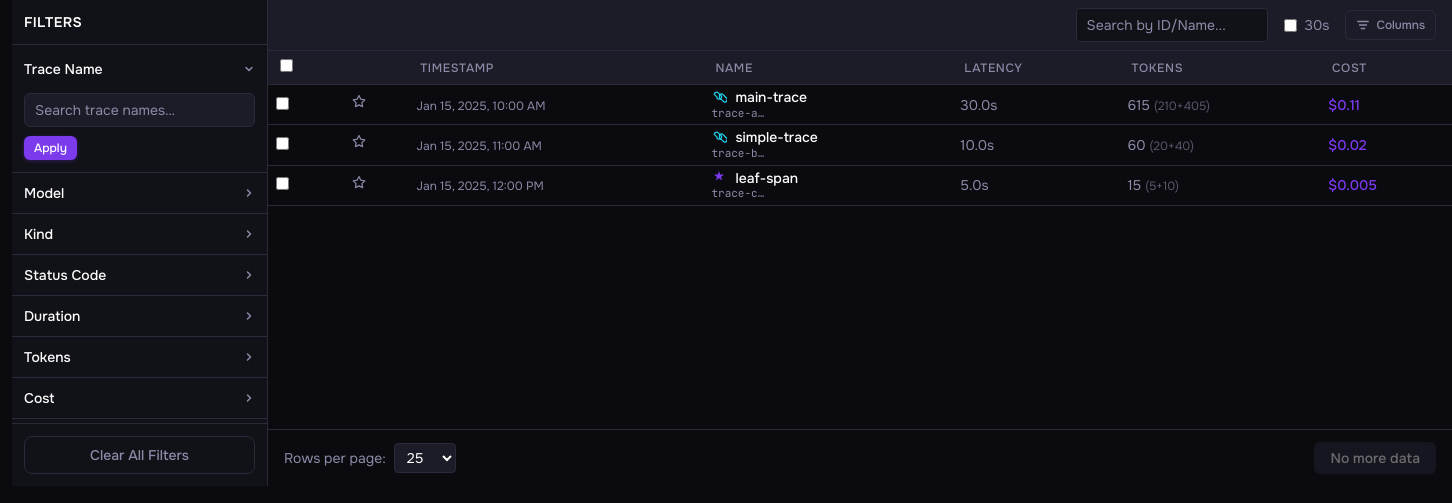
Test case: bookmark toggling › toggles bookmark star on click
Expected: the text "main-trace" is shown, [736,89,807,106]
Click the button named "Bookmark this trace" next to "Jan 15, 2025, 10:00 AM". click: (359, 102)
box: [351,94,367,110]
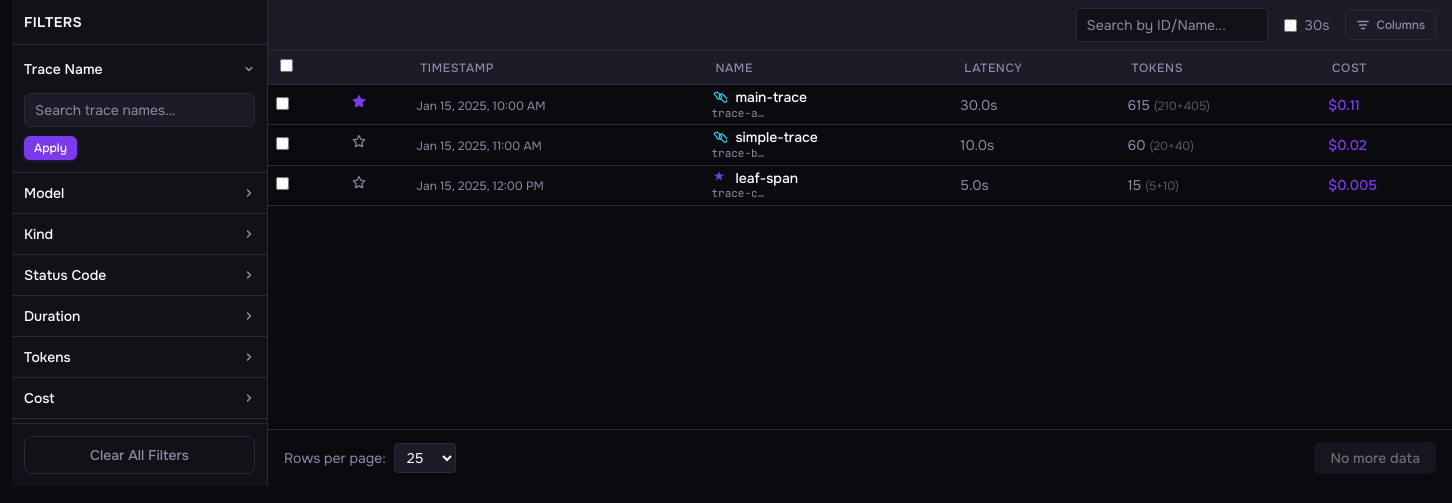
Result: the button named "Remove bookmark" is shown at [351,94,367,110]
